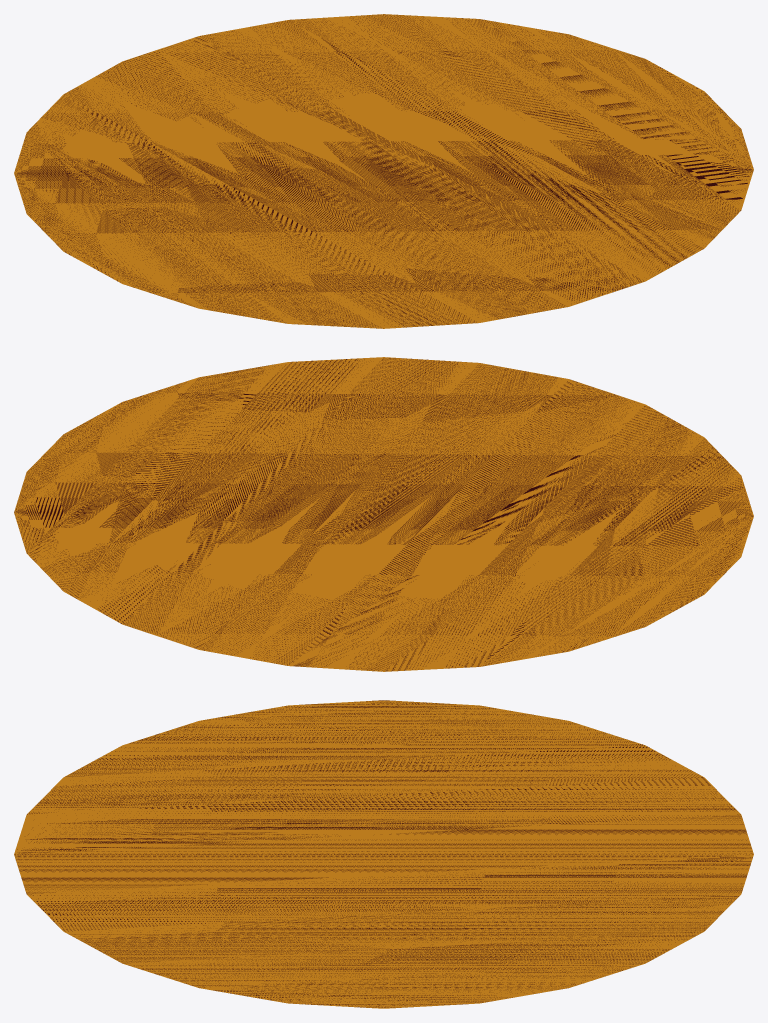
The model's file is original-14.obj.
3 renders of one model, top to bottom at view 1: azimuth 30°, elevation 25°; view 2: azimuth 150°, elevation 25°; view 3: azimuth 270°, elevation 25°, orthographic.
Visible parts, largest first — view 1: #ID99; view 2: #ID99; view 3: #ID99.
Part boxes in pixels (bbox=[...]): #ID99: bbox=[14, 14, 753, 328]; #ID99: bbox=[14, 357, 753, 671]; #ID99: bbox=[14, 700, 753, 1008].
Bounding box in the file's own units: 0.0677 × 0.000414 × 0.0677.
